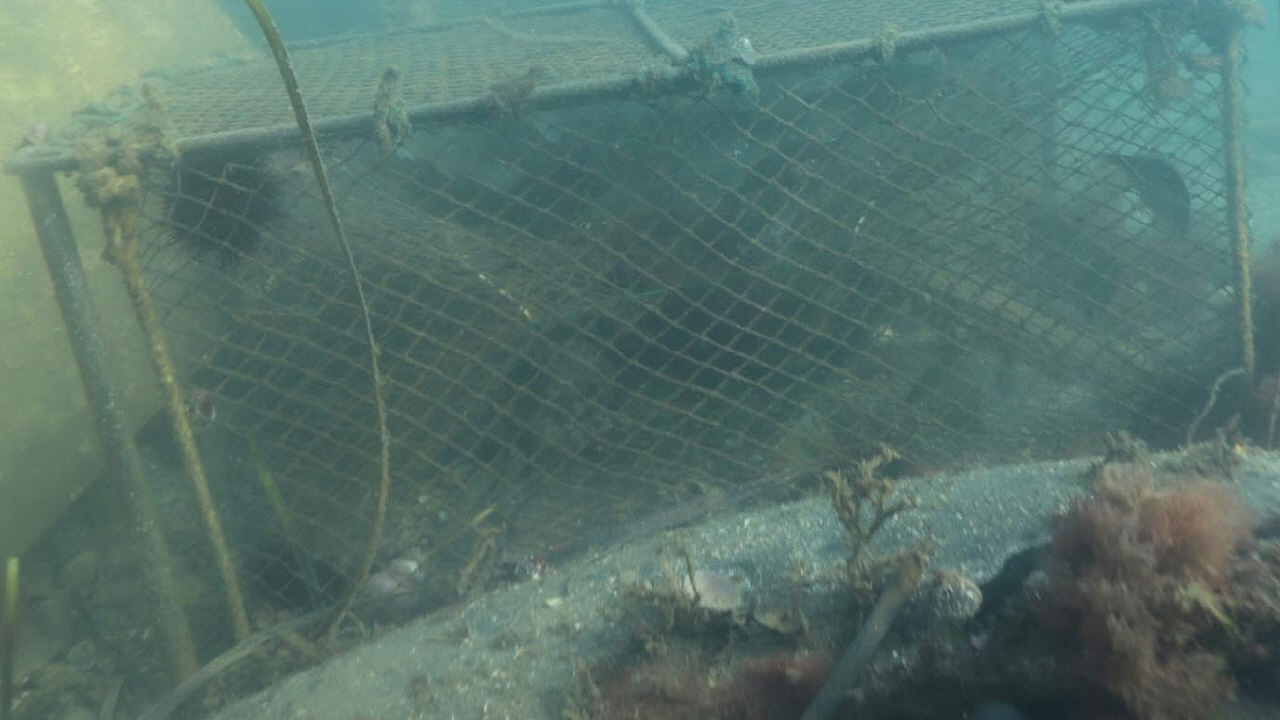rectangular fish trap: (0, 0, 1256, 693)
